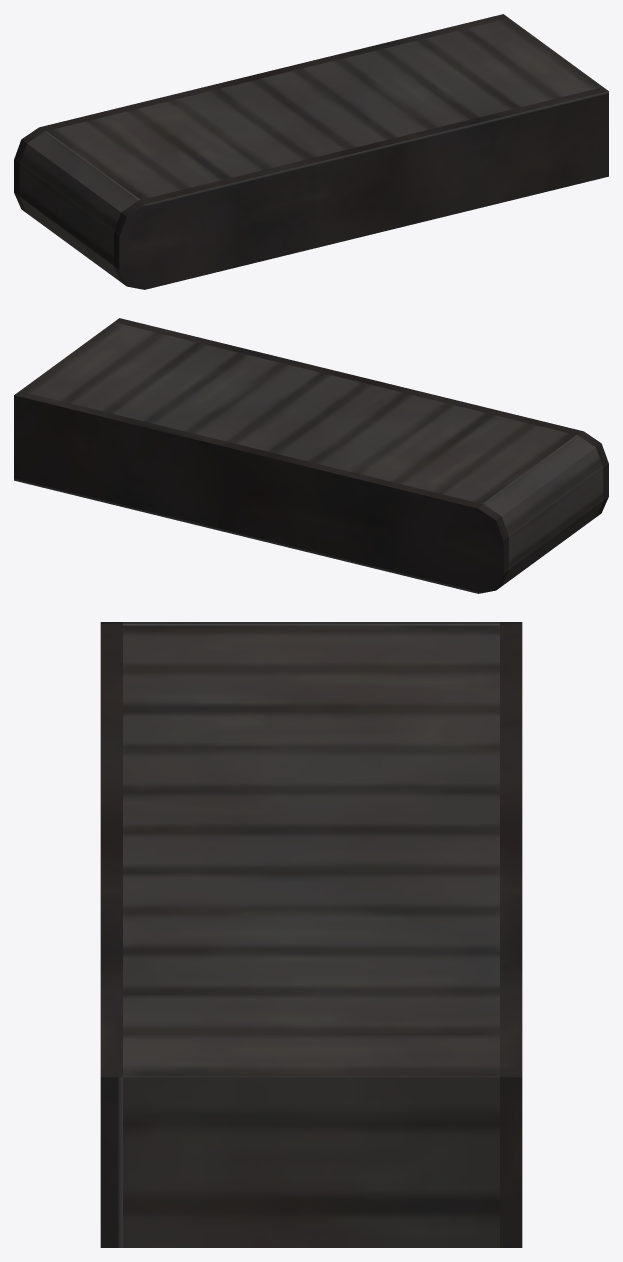
The model's file is TermProject_con_belt_short.fbx.
3 views of the same model, one above another, from view 1: azimuth 30°, elevation 25°; view 2: azimuth 150°, elevation 25°; view 3: azimuth 270°, elevation 25° (orthographic). The views are drawn at different scales.
Parts seen in each view (by area): view 1: Cube.061; view 2: Cube.061; view 3: Cube.061.
Part boxes in pixels (x1=…): Cube.061: x1=14, y1=14, x2=608, y2=289; Cube.061: x1=14, y1=318, x2=608, y2=593; Cube.061: x1=100, y1=622, x2=522, y2=1247.
Bounding box in the file's own units: 600 × 224 × 100.
